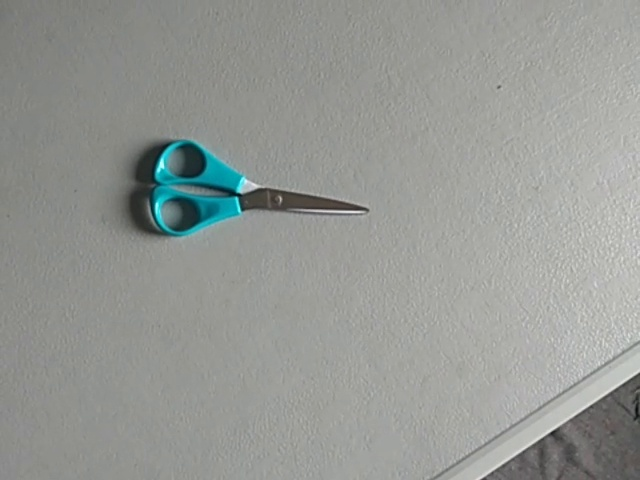Sizer: (143, 131, 377, 244)
